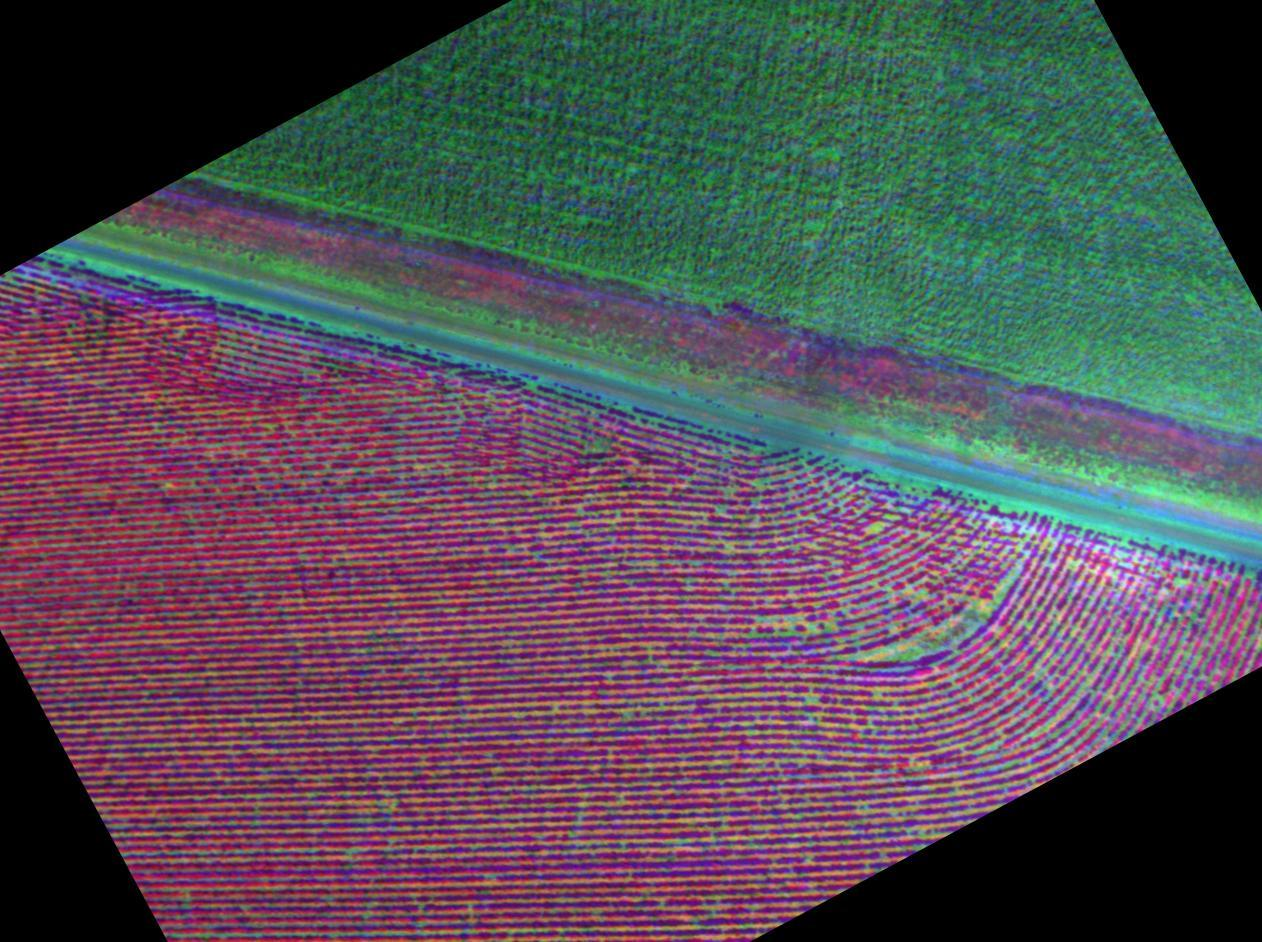dc: (853, 550, 1026, 661), (328, 755, 444, 875), (798, 693, 902, 778), (1053, 605, 1125, 715), (756, 593, 838, 656)
